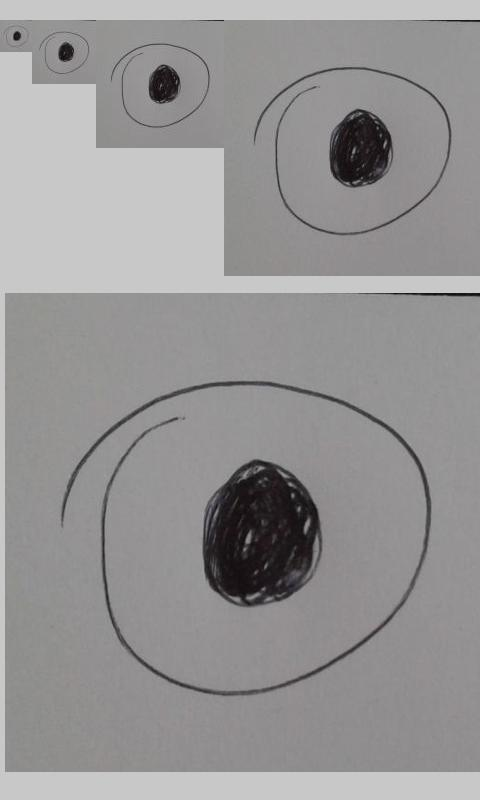radio_button: (55, 375, 436, 701), (251, 63, 455, 239), (108, 41, 213, 130), (38, 30, 91, 75), (2, 24, 30, 48)
